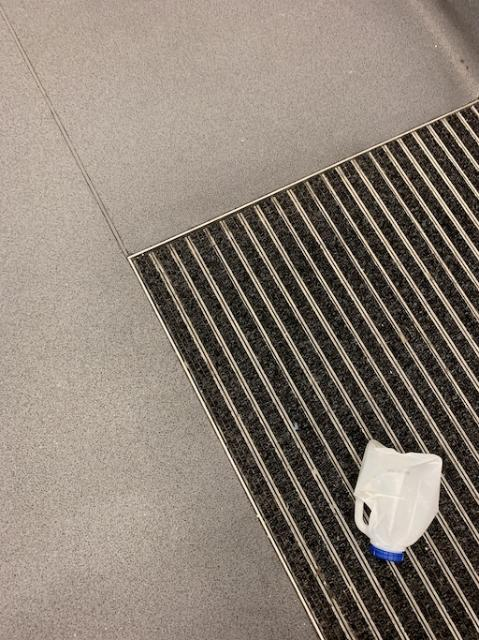plastic: (353, 439, 441, 560)
